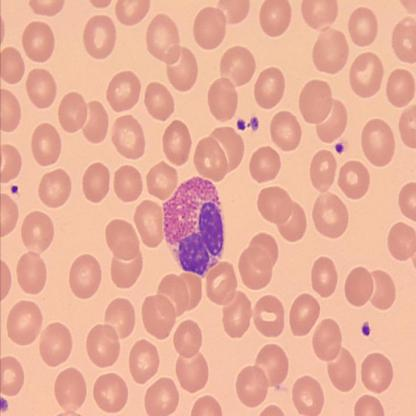Eosinophil: (160, 174, 226, 275)
